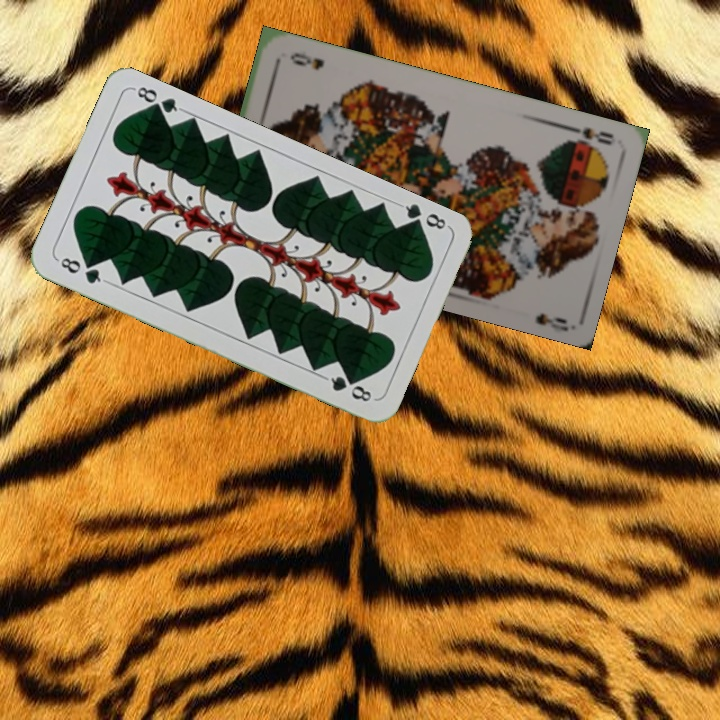G8: (395, 199, 452, 234), (53, 253, 109, 287)
SO: (561, 122, 617, 148)
